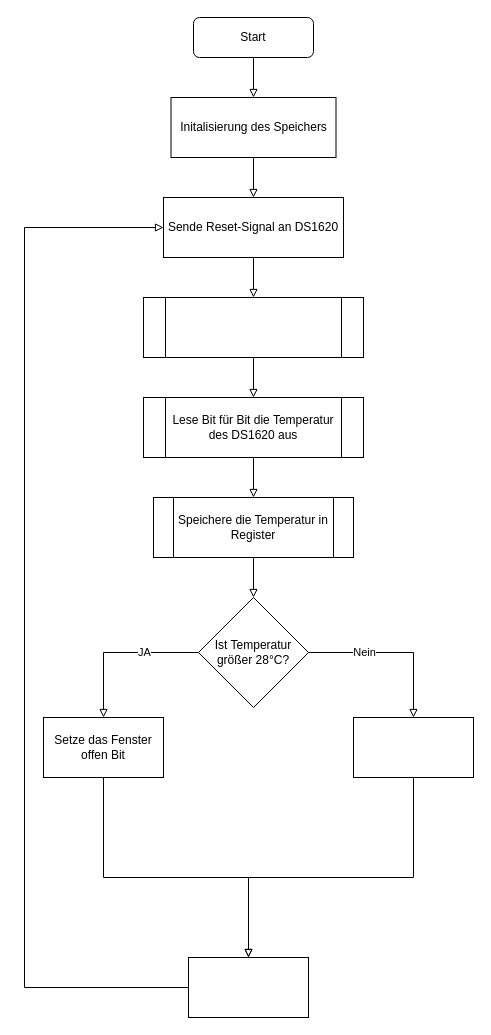
The diagram is 491 pixels wide and 1035 high, and some of its shapes have lost their labels. Each missing label, with the centre of its shape:
"Löschen das Fenster offen Bit" belongs at point (413, 747).
"Rückgabe des Fensterwerts" belongs at point (248, 987).
"Sende Befehl zu Rückgabe der Temperatur an DS1620" belongs at point (253, 327).
